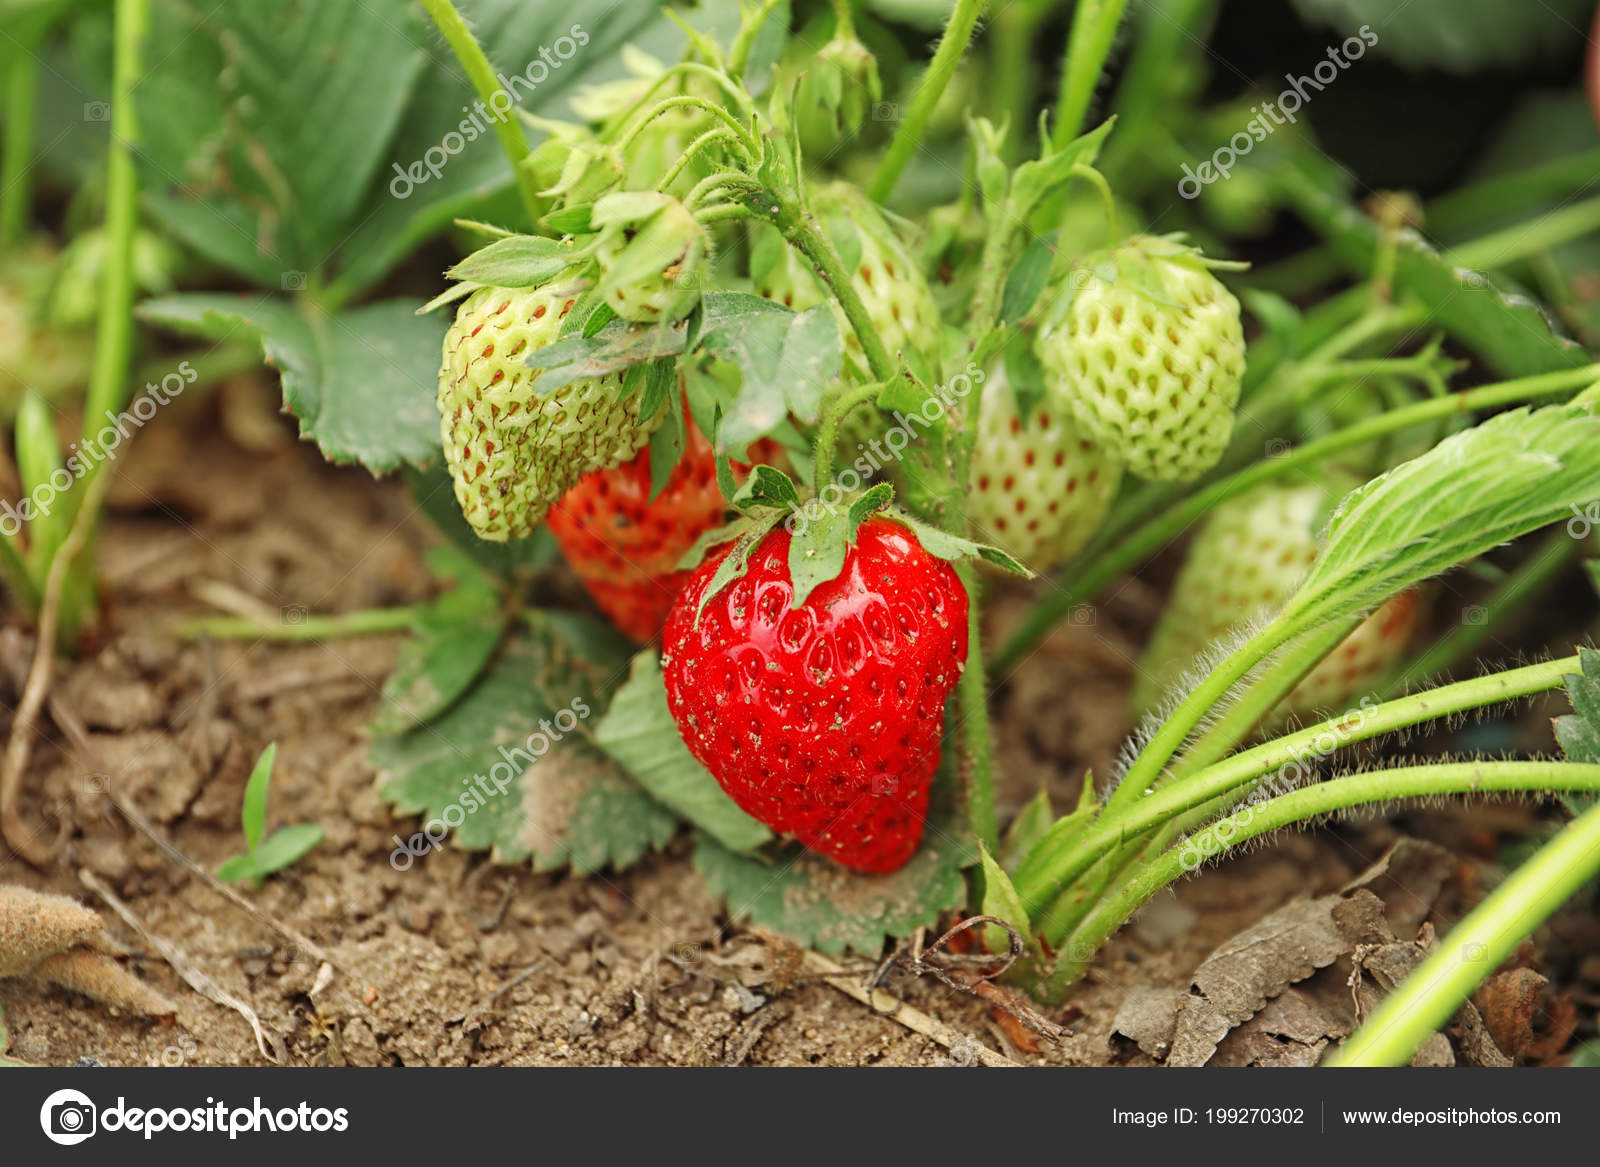ripe_strawberry: (658, 483, 964, 880)
unripe_strawberry: (421, 234, 691, 558), (1128, 464, 1432, 741), (543, 382, 806, 652), (739, 181, 942, 492), (1032, 217, 1257, 497), (933, 348, 1125, 580), (590, 195, 719, 326)
